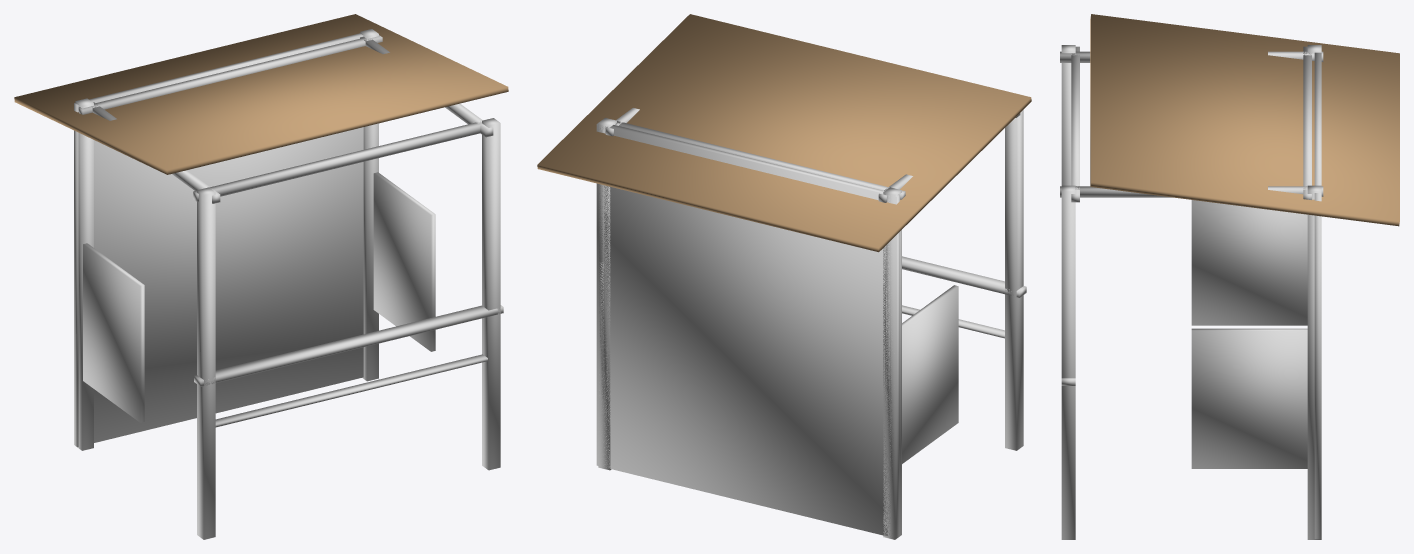
Rendered from market_stall.glb.
The picture shows the model from 3 angles, left to right: view 1: azimuth 30°, elevation 25°; view 2: azimuth 150°, elevation 25°; view 3: azimuth 270°, elevation 25°; orthographic projection.
Visible parts, largest first — view 1: market_stall; view 2: market_stall; view 3: market_stall.
Boxes of the visible parts, <box> form: market_stall: <box>14,14,508,539</box>; market_stall: <box>537,14,1031,539</box>; market_stall: <box>1060,14,1399,539</box>.
Size of the model in its own units: 2.3 by 2.35 by 1.96.
